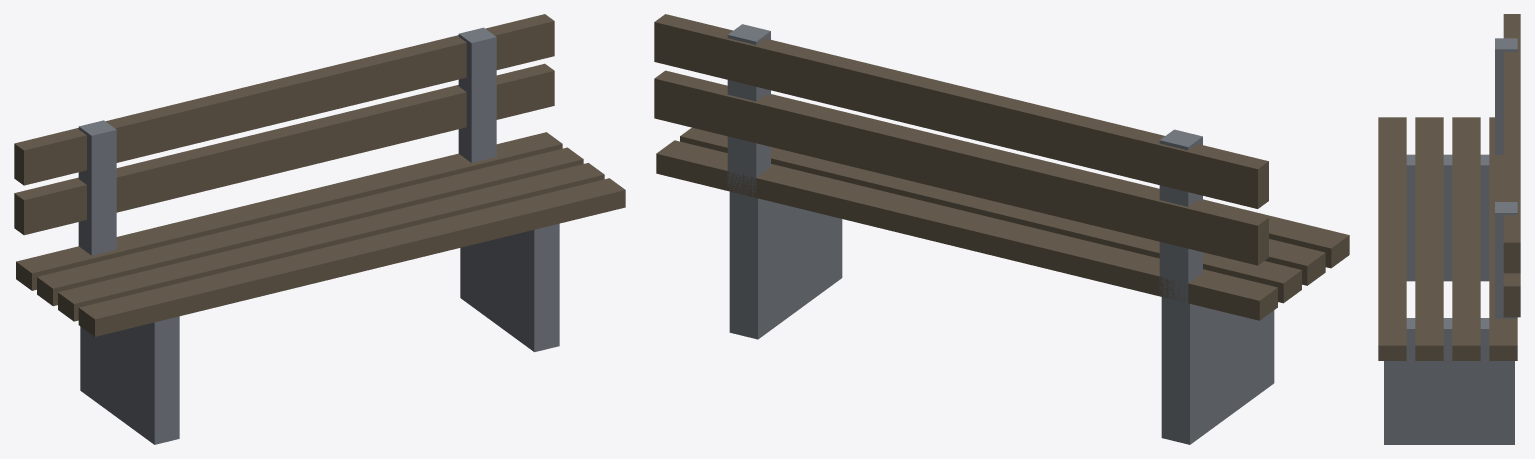
File: site_bench.fbx
The picture shows the model from 3 angles, left to right: view 1: azimuth 30°, elevation 25°; view 2: azimuth 150°, elevation 25°; view 3: azimuth 270°, elevation 25°; orthographic projection. The views are drawn at different scales.
Visible parts, largest first — view 1: a3004/0/site_bench; view 2: a3004/0/site_bench; view 3: a3004/0/site_bench.
Part boxes in pixels (x1,y1,x2,y2): a3004/0/site_bench: (14,14,625,444); a3004/0/site_bench: (654,14,1349,444); a3004/0/site_bench: (1378,14,1520,444).
Size of the model in its own units: 1.9 by 0.9 by 0.5.
